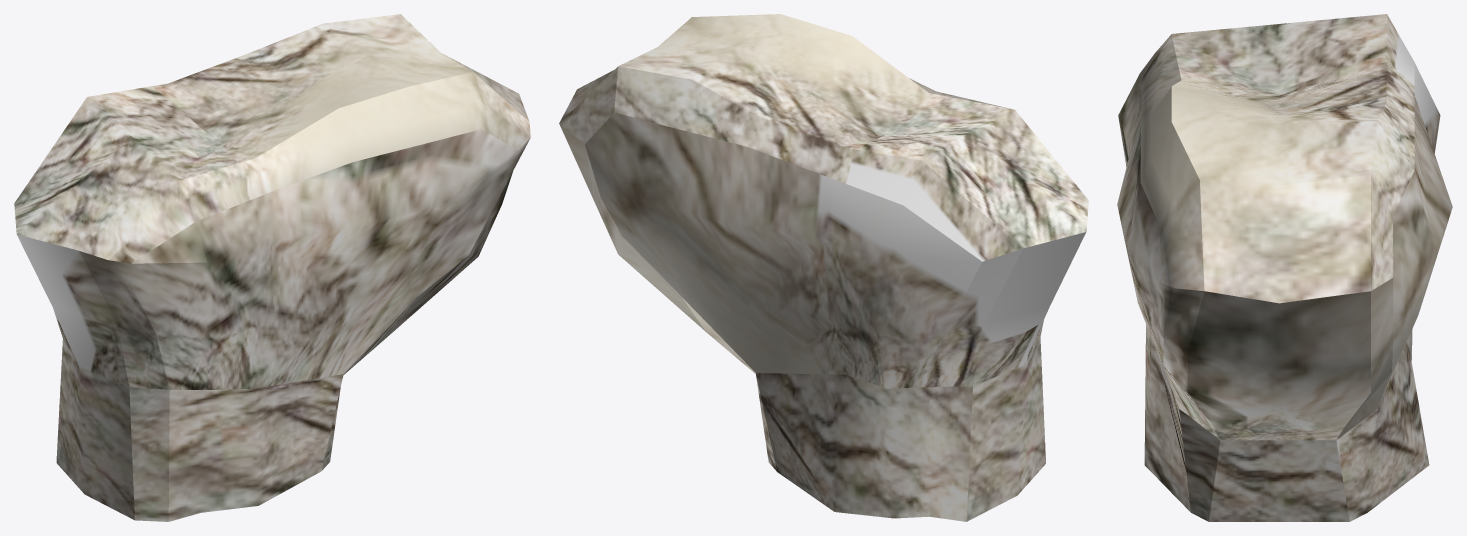
Rendered from TDSten2.fbx.
3 renders of one model, left to right at view 1: azimuth 30°, elevation 25°; view 2: azimuth 150°, elevation 25°; view 3: azimuth 270°, elevation 25°, orthographic. The views are drawn at different scales.
Visible parts, largest first — view 1: pCube65; view 2: pCube65; view 3: pCube65.
Boxes of the visible parts, x1,y1,x2,y2 form: pCube65: (14,14,530,521); pCube65: (559,14,1088,521); pCube65: (1117,14,1452,521).
Bounding box in the file's own units: 38.08 × 27.04 × 18.72.
